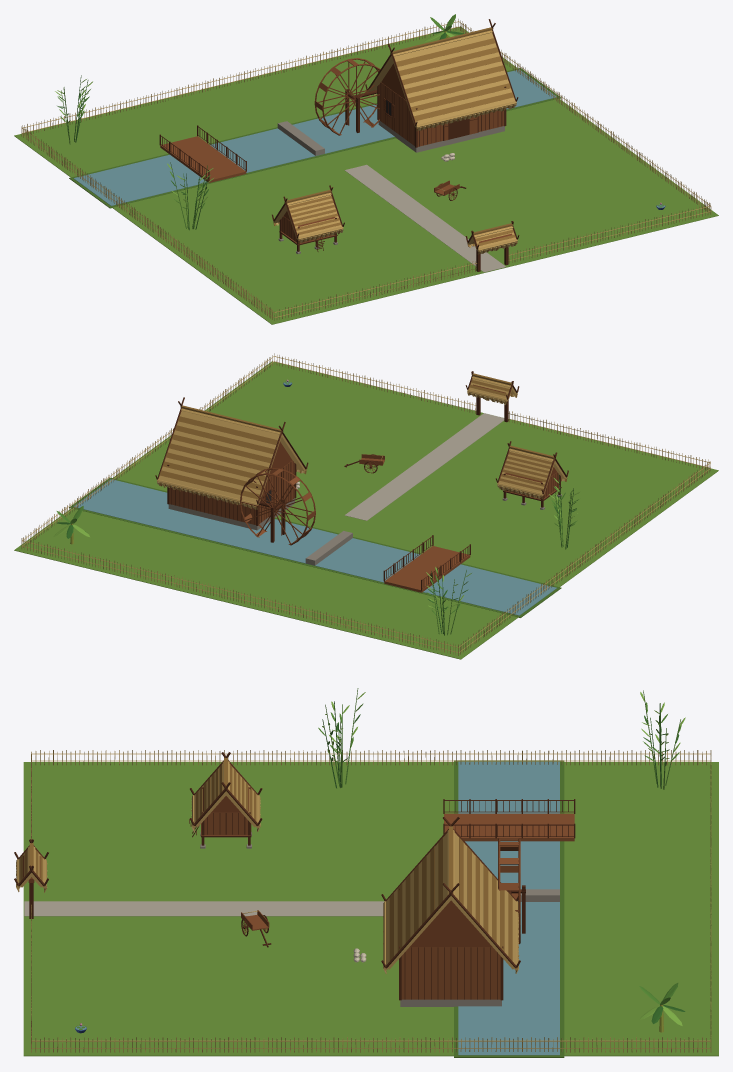
Rendered from power_plant.glb.
3 renders of one model, top to bottom at view 1: azimuth 30°, elevation 25°; view 2: azimuth 150°, elevation 25°; view 3: azimuth 270°, elevation 25°, orthographic. The views are drawn at different scales.
Parts seen in each view (by area): view 1: body; view 2: body; view 3: body.
Boxes of the visible parts, x1,y1,x2,y2 form: body: [14, 14, 718, 324]; body: [14, 353, 718, 659]; body: [14, 688, 718, 1057].
Bounding box in the file's own units: 48.4 × 10.21 × 48.56.
